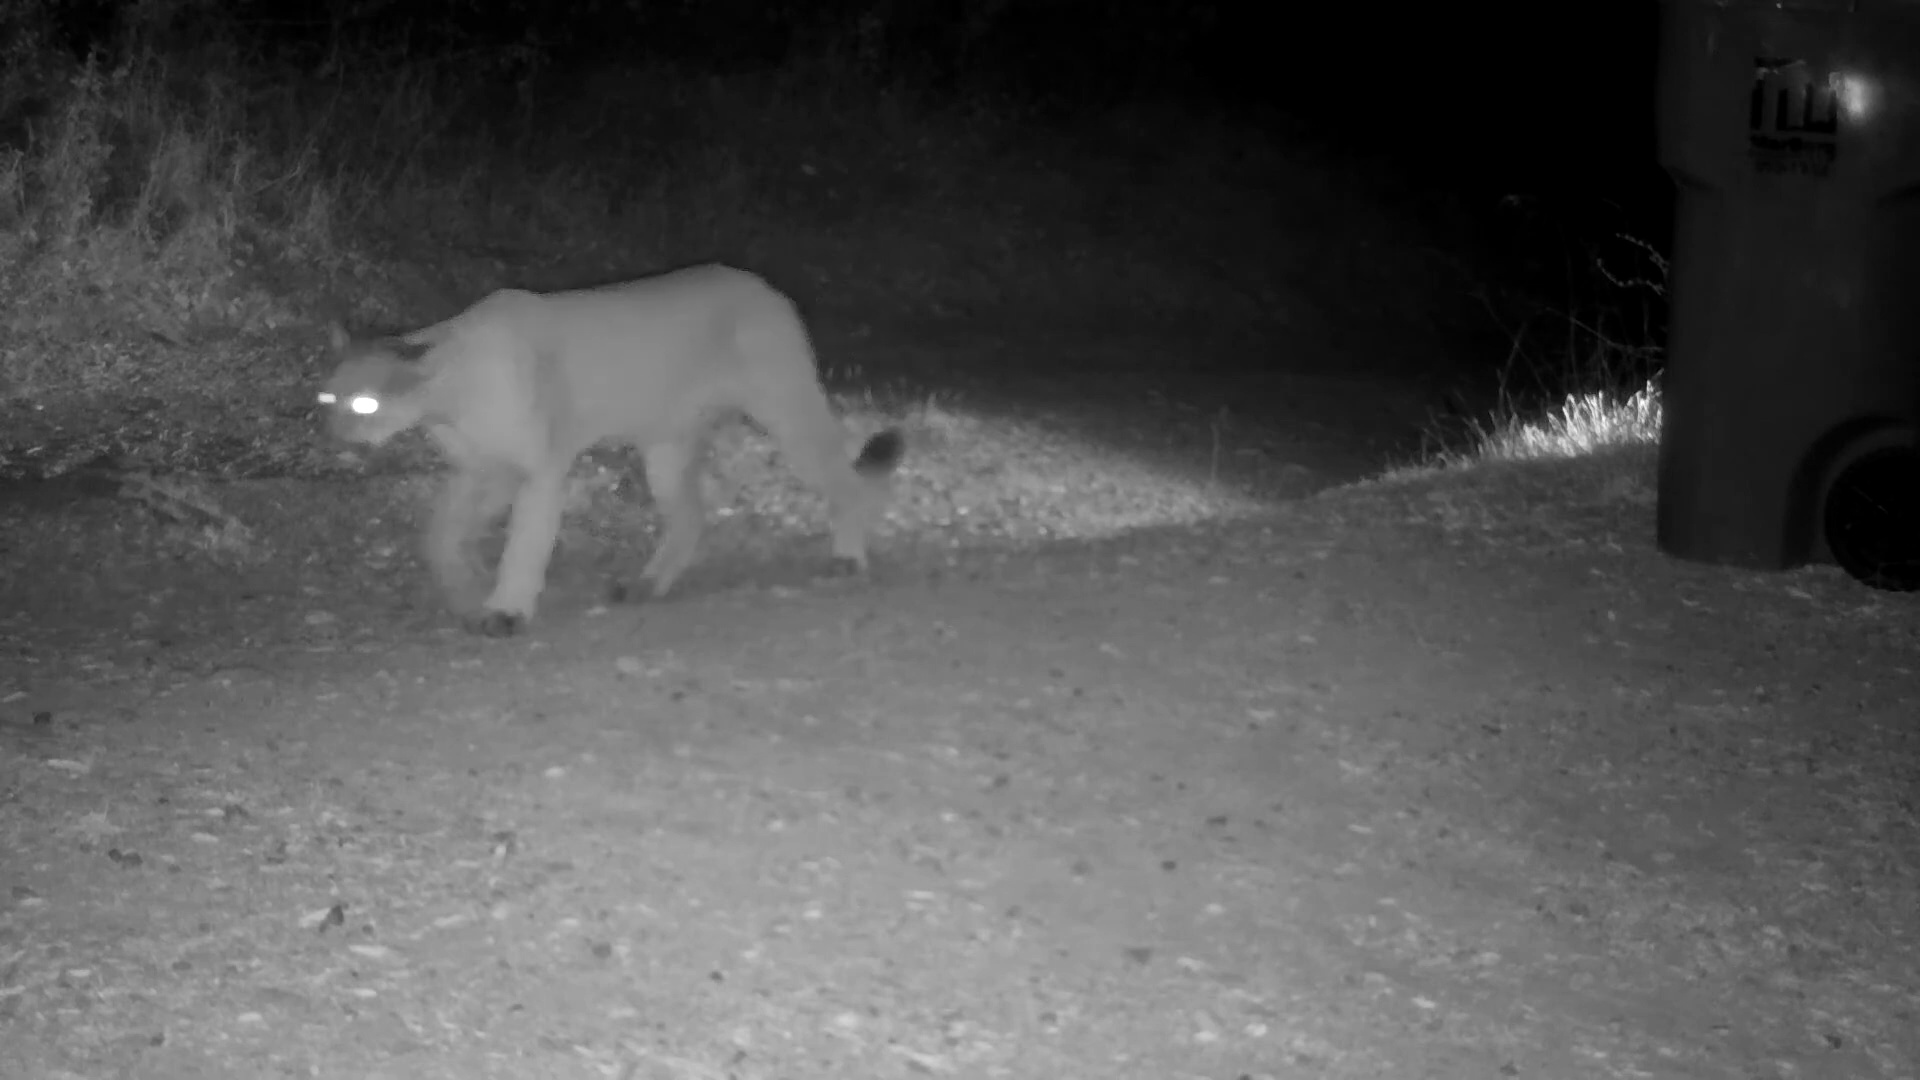Lion: (315, 261, 906, 641)
